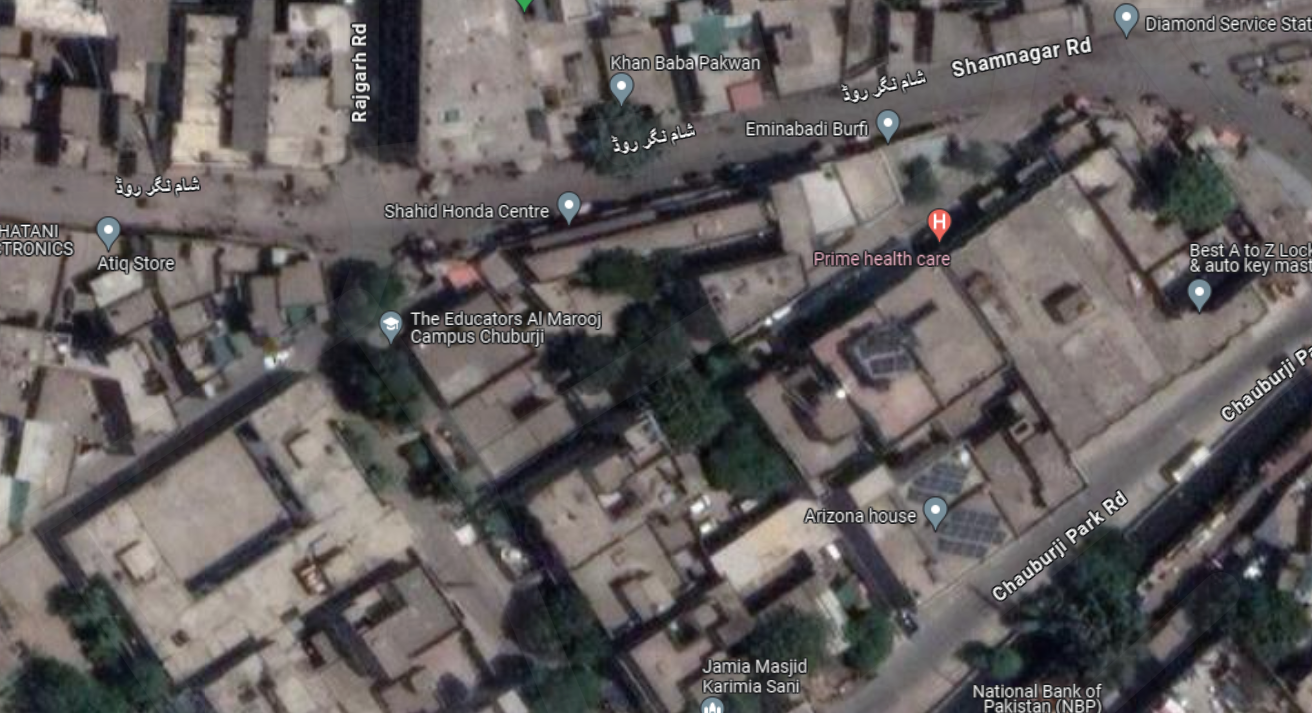solar-panel: (917, 433, 1003, 565), (838, 314, 924, 374)
